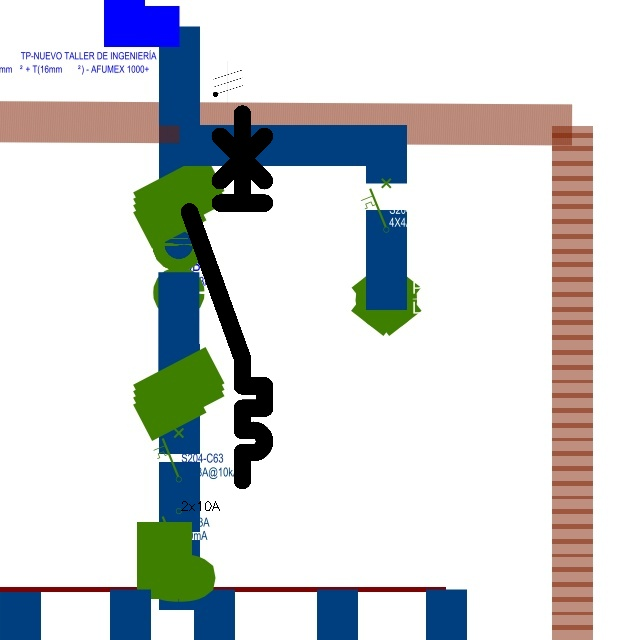interruptor_termomagnetico: (180, 104, 274, 490)
